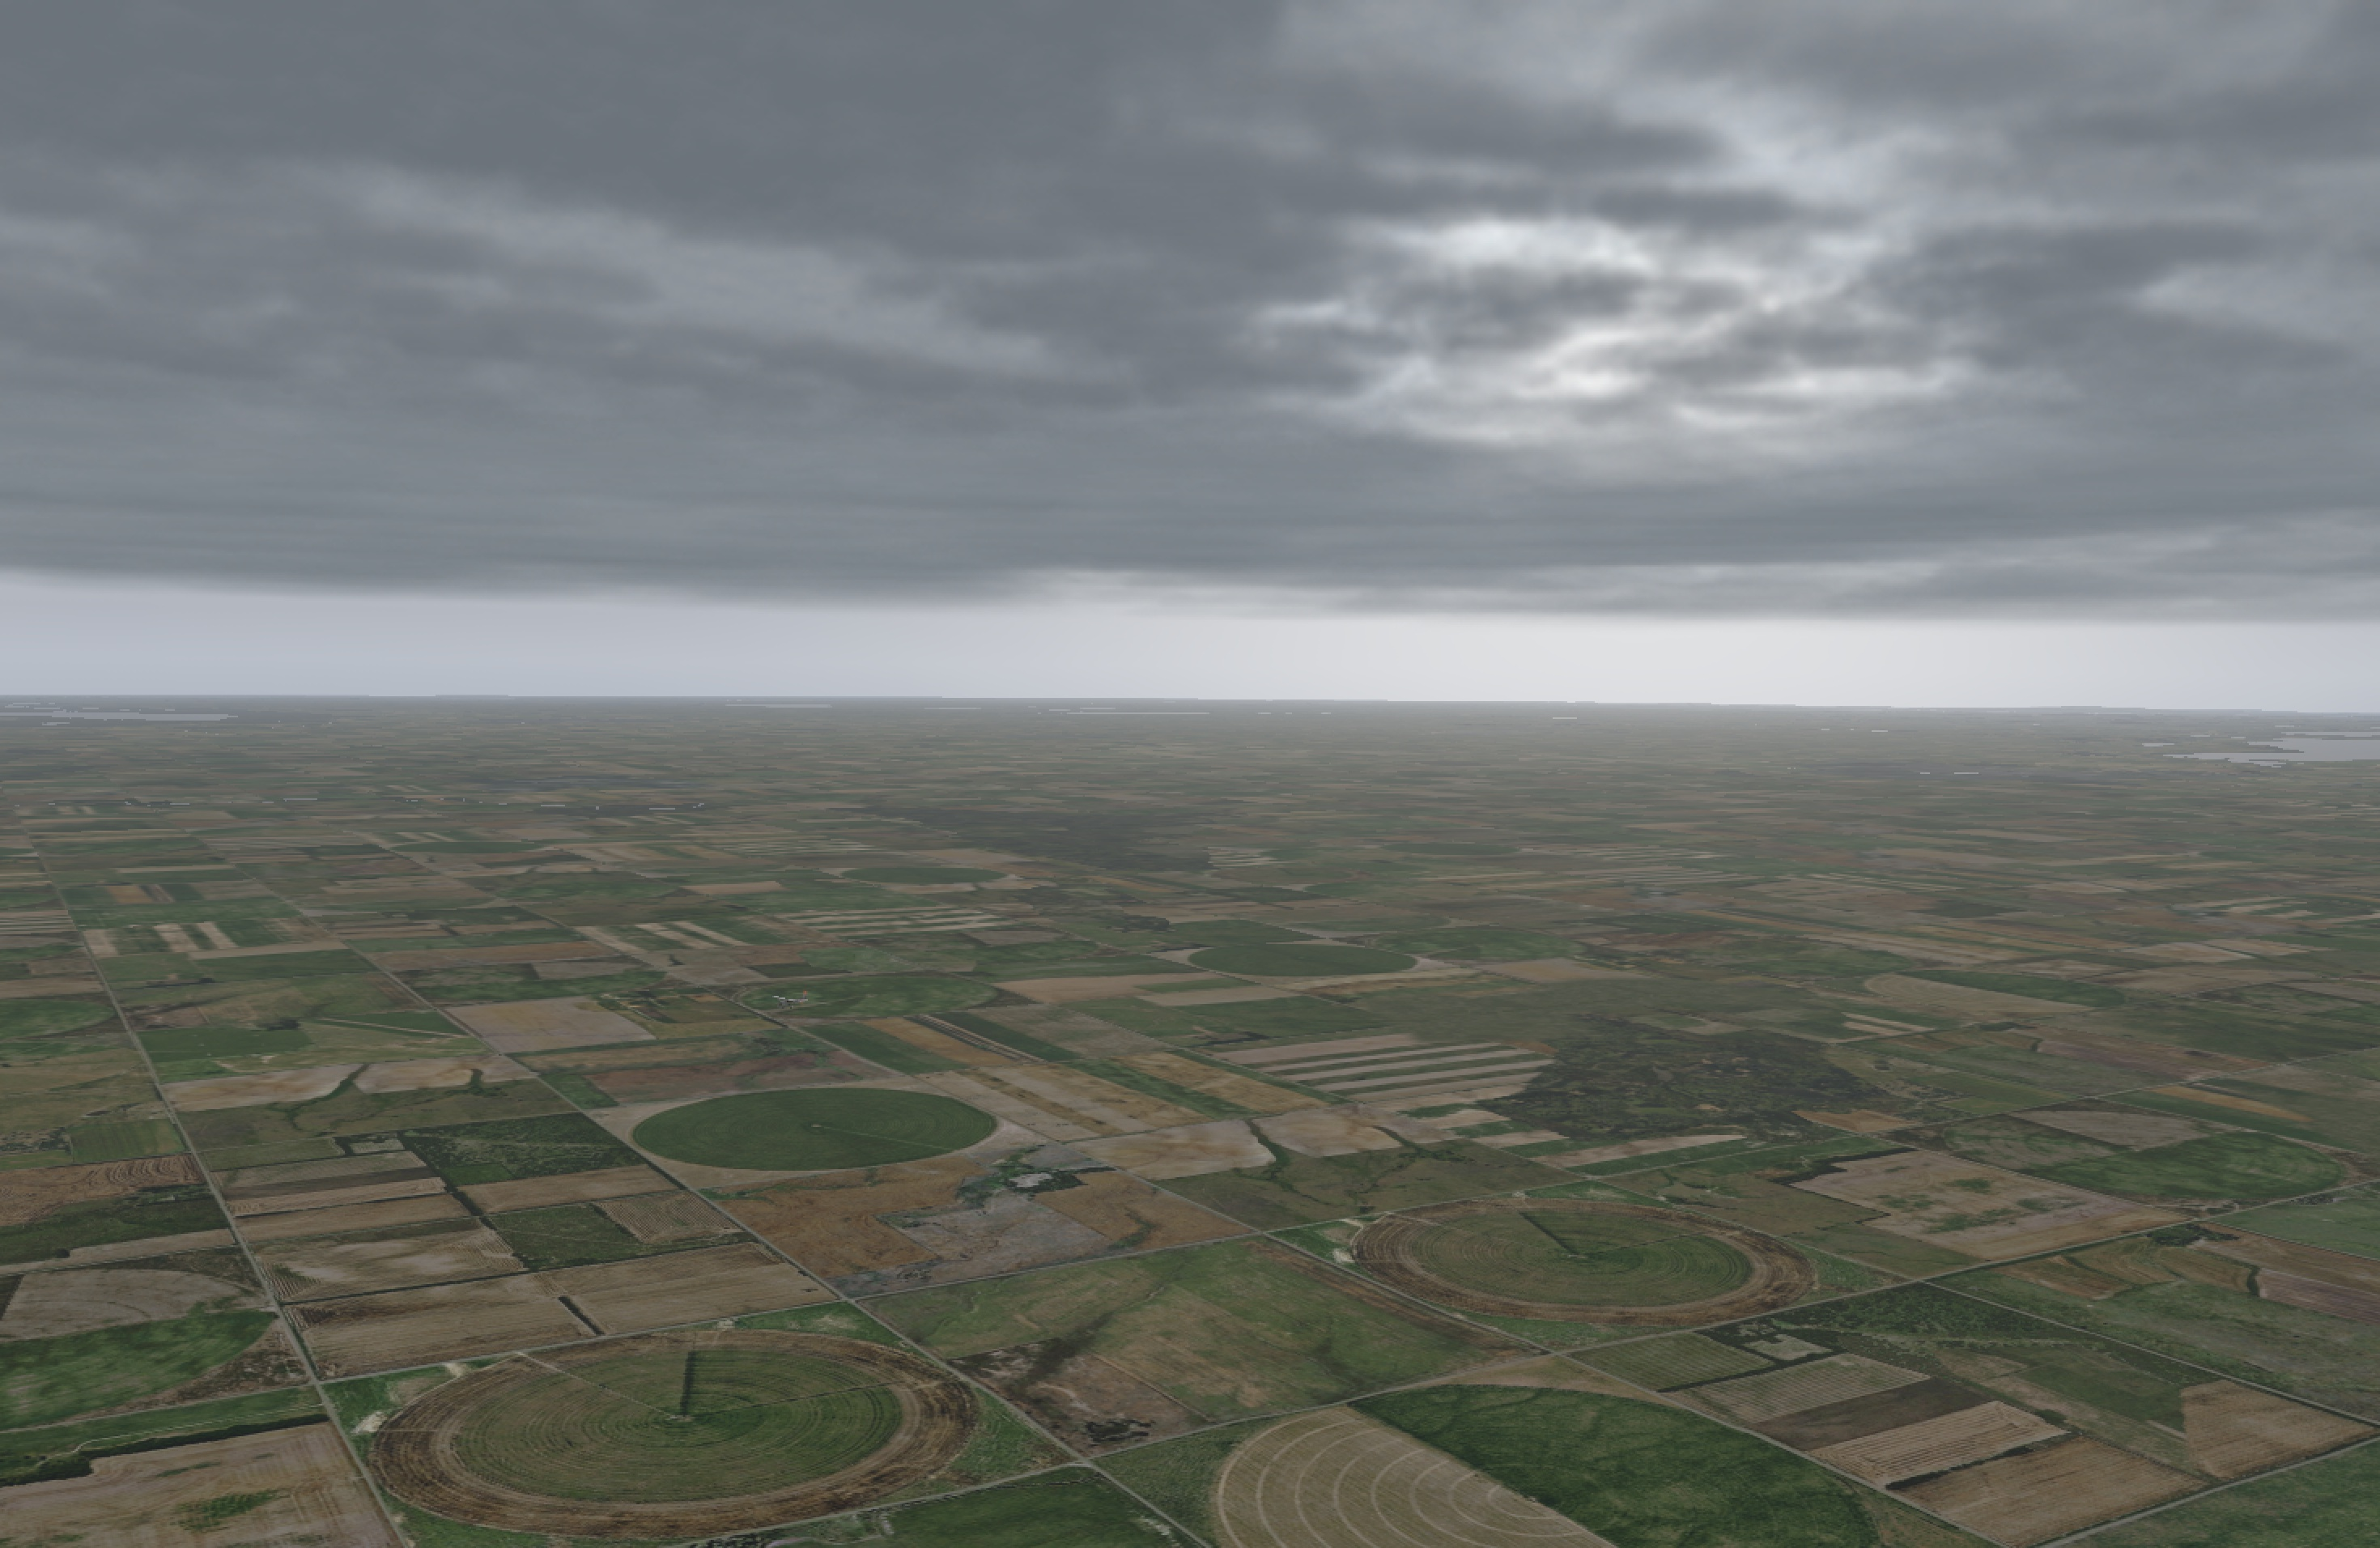aircraft: (770, 996, 803, 1008)
